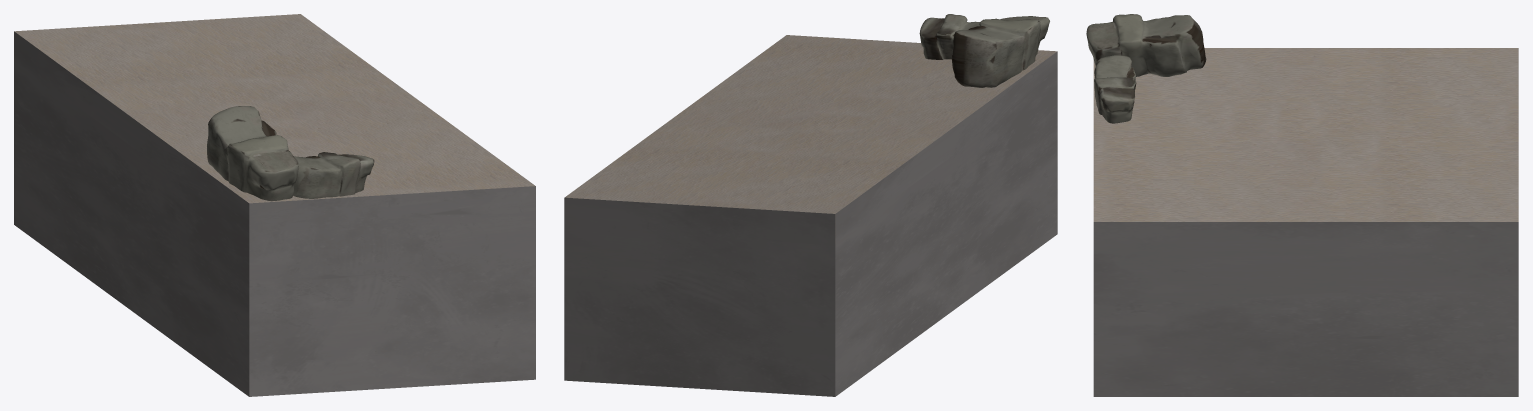
The model's file is beach and tide.fbx.
3 views of the same model, side by side, from view 1: azimuth 30°, elevation 25°; view 2: azimuth 150°, elevation 25°; view 3: azimuth 270°, elevation 25° (orthographic). The views are drawn at different scales.
Visible parts, largest first — view 1: beach_BAKED; view 2: beach_BAKED; view 3: beach_BAKED.
Part boxes in pixels (left/top/right/bottom): beach_BAKED: left=14, top=14, right=535, bottom=396; beach_BAKED: left=564, top=14, right=1057, bottom=396; beach_BAKED: left=1086, top=14, right=1518, bottom=396.
Bounding box in the file's own units: 7811 × 7633 × 11284.
